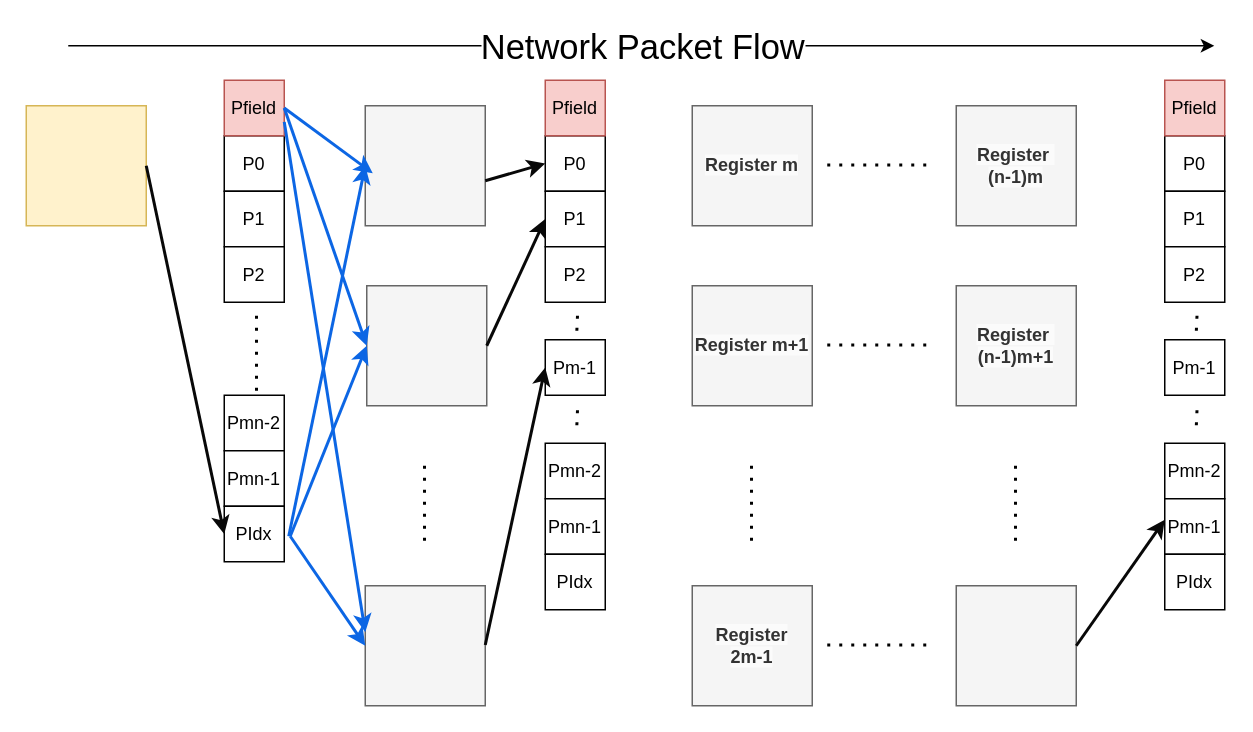
Some shapes in this 1253 by 732 pixel diagram are drawn without their labels. Here are the shapes that lost their labels. From the top down, the centre of each, then its label:
point 85,165: Update packet index
point 424,165: Register 0
point 426,345: Register 1
point 424,645: Register m-1
point 1015,645: Register nm-1
